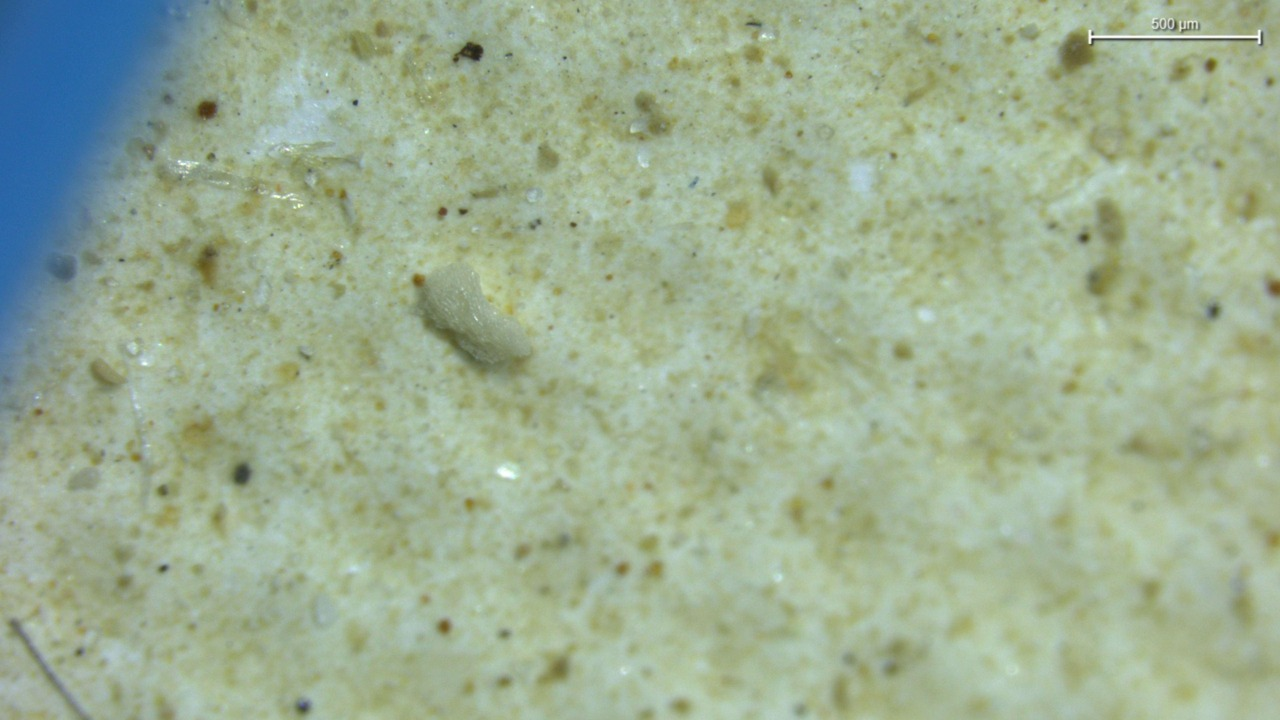microplastic_fragment: (419, 264, 531, 364)
